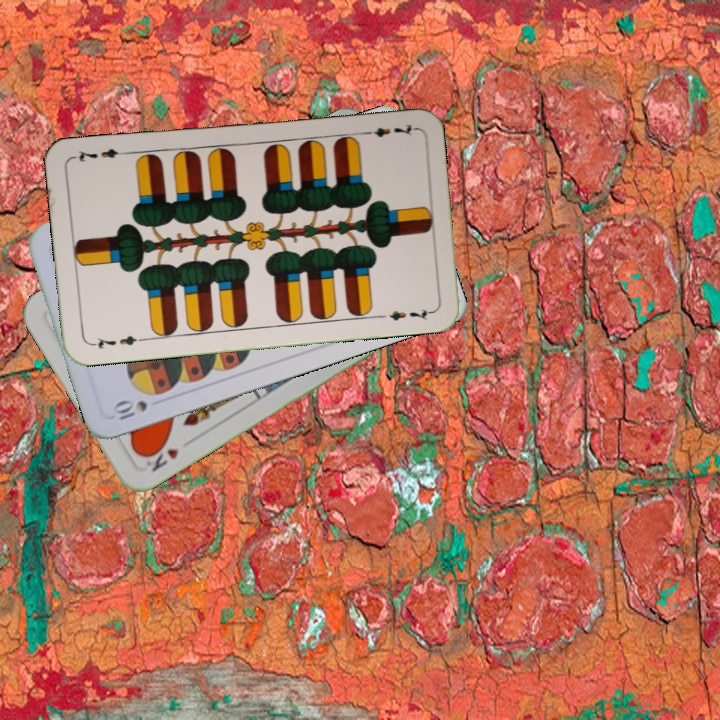E7: (87, 331, 146, 352), (358, 120, 417, 140)
HK: (140, 438, 182, 475)
S10: (109, 395, 150, 423)
